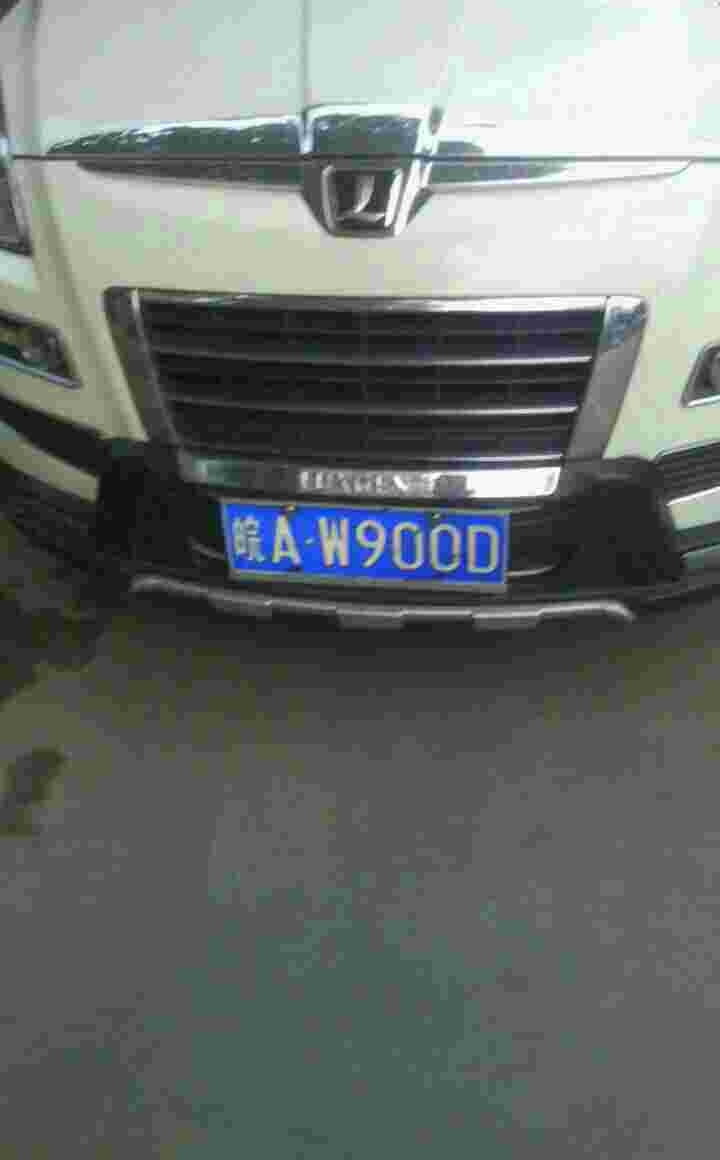plate: (224, 496, 514, 591)
